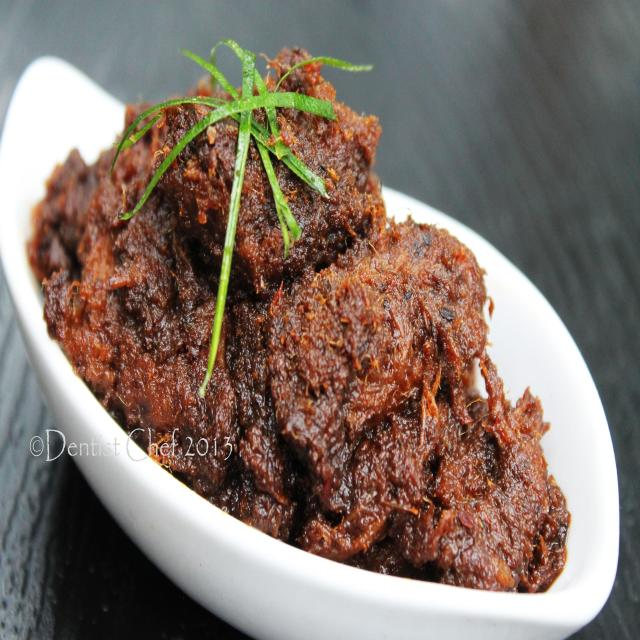Rendang: (19, 48, 574, 586)
